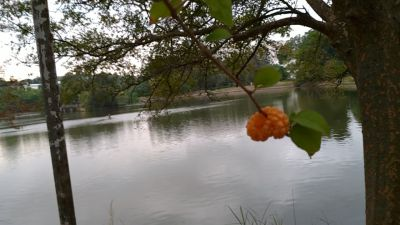eggs: (245, 106, 290, 143)
